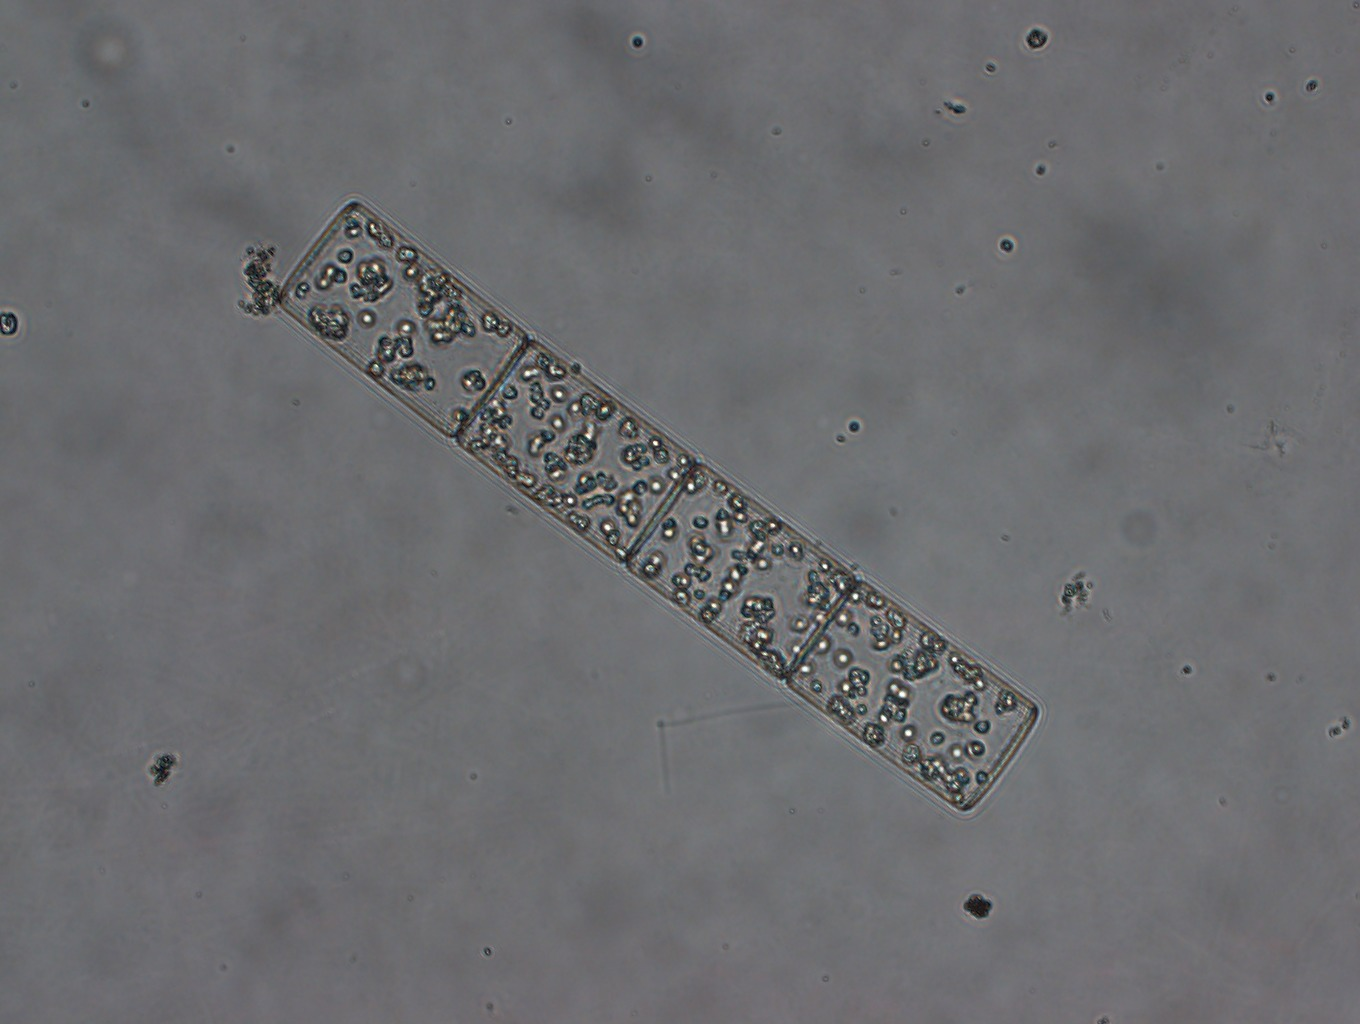guinardia flaccida: (275, 200, 1041, 815)
